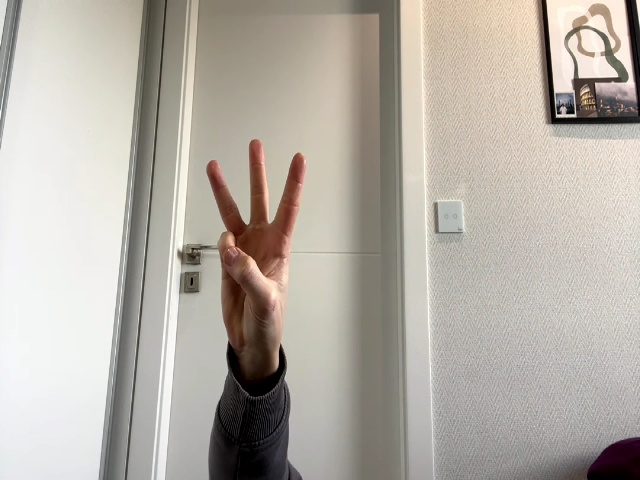W: (206, 139, 306, 339)
